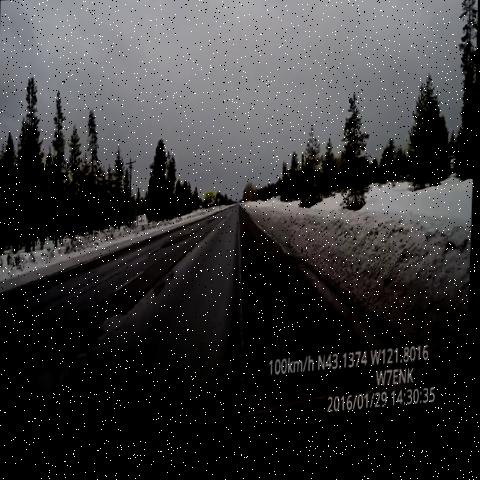pothole: (0, 339, 94, 437), (92, 293, 145, 358), (157, 231, 197, 264)
